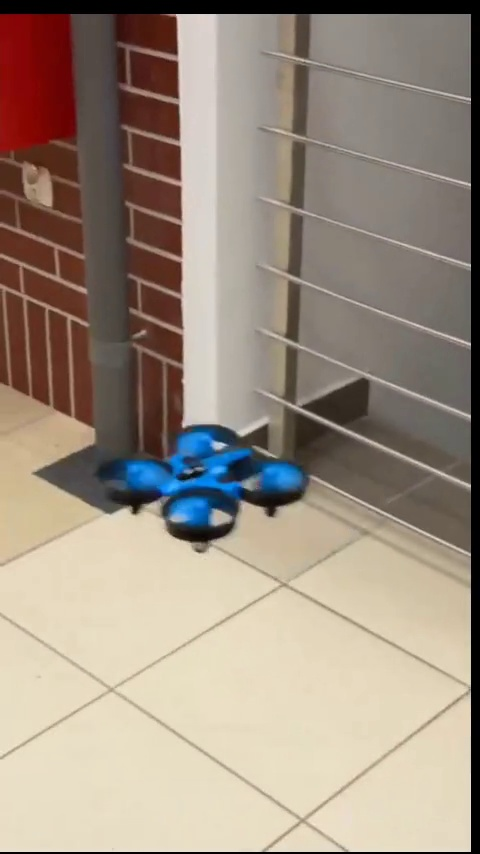drone: (102, 431, 311, 552)
